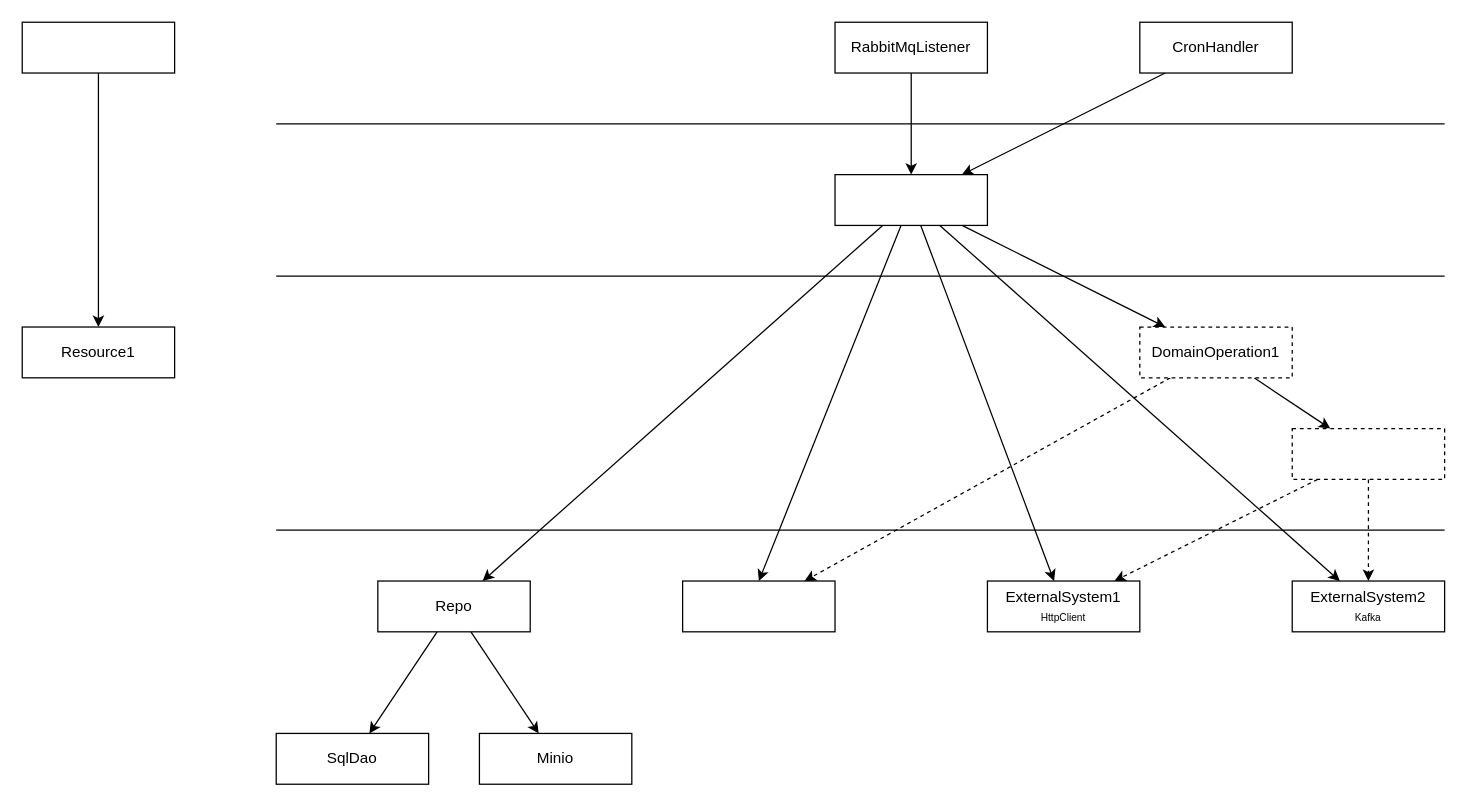
The diagram is 1468 pixels wide and 806 high, and some of its shapes have lost their labels. The shapes that lost their labels are listed below. From the top down, each one's centre as x and y in pixels, then its label:
At (x=98, y=47): "RestController".
At (x=910, y=199): "Operation".
At (x=1368, y=453): "DomainOperation2".
At (x=758, y=606): "MessageQueue".
